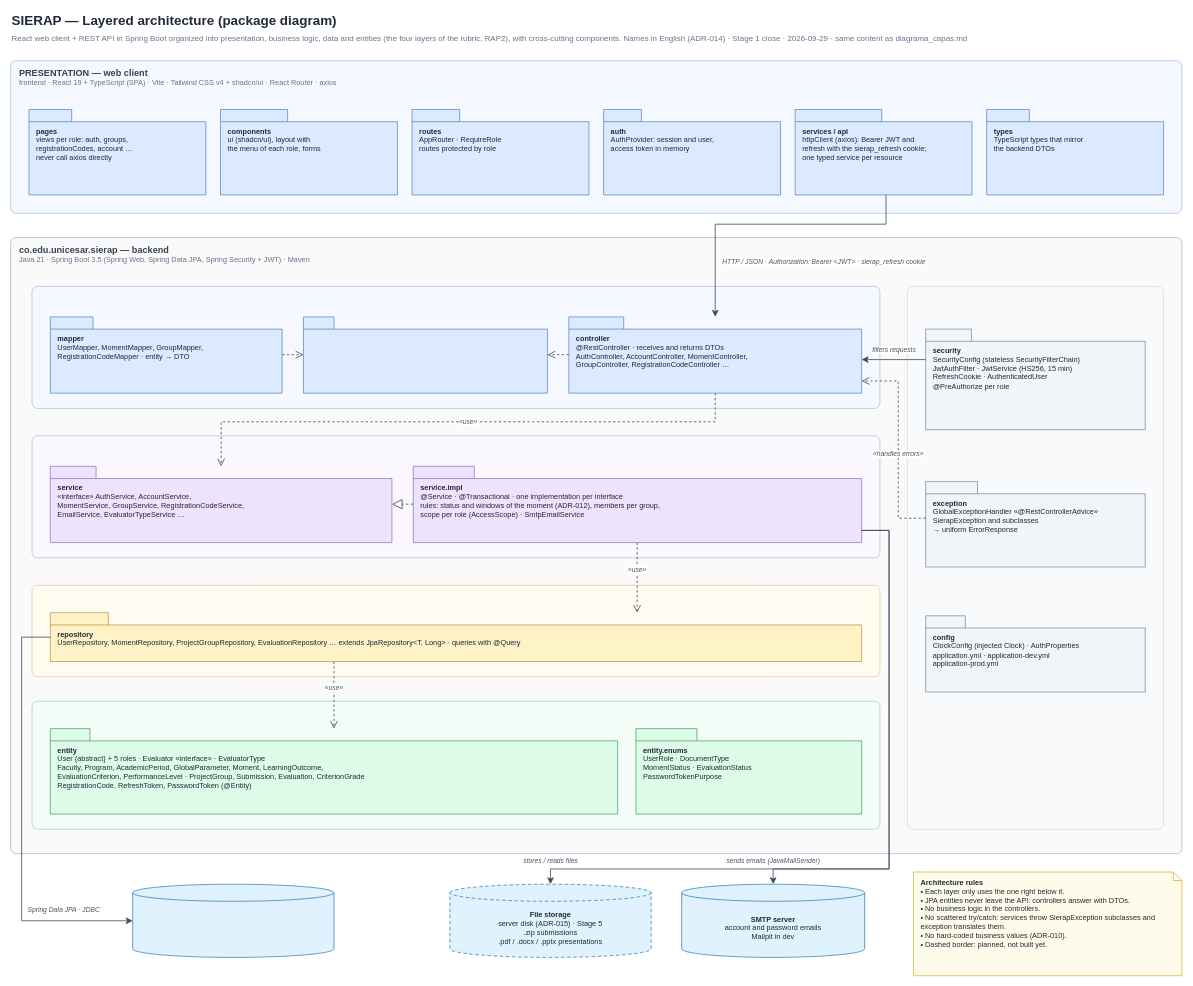
Image size: 1193x986. Some labels were removed from this diagram. The shapes that lost their labels are listed below. From the top down, each one's box as (x1, y1, x2, y2) in pixels, then its label:
(303, 316, 547, 393): dto request/ · response/ as records validation with @Valid · ErrorResponse
(31, 286, 880, 408): PRESENTATION — REST API
(31, 435, 880, 558): BUSINESS LOGIC
(907, 286, 1164, 829): CROSS-CUTTING apply to every layer
(31, 585, 880, 677): DATA
(31, 701, 880, 829): ENTITIES
(132, 884, 334, 957): PostgreSQL 17 relational schema Flyway migrations (V1–V6)
